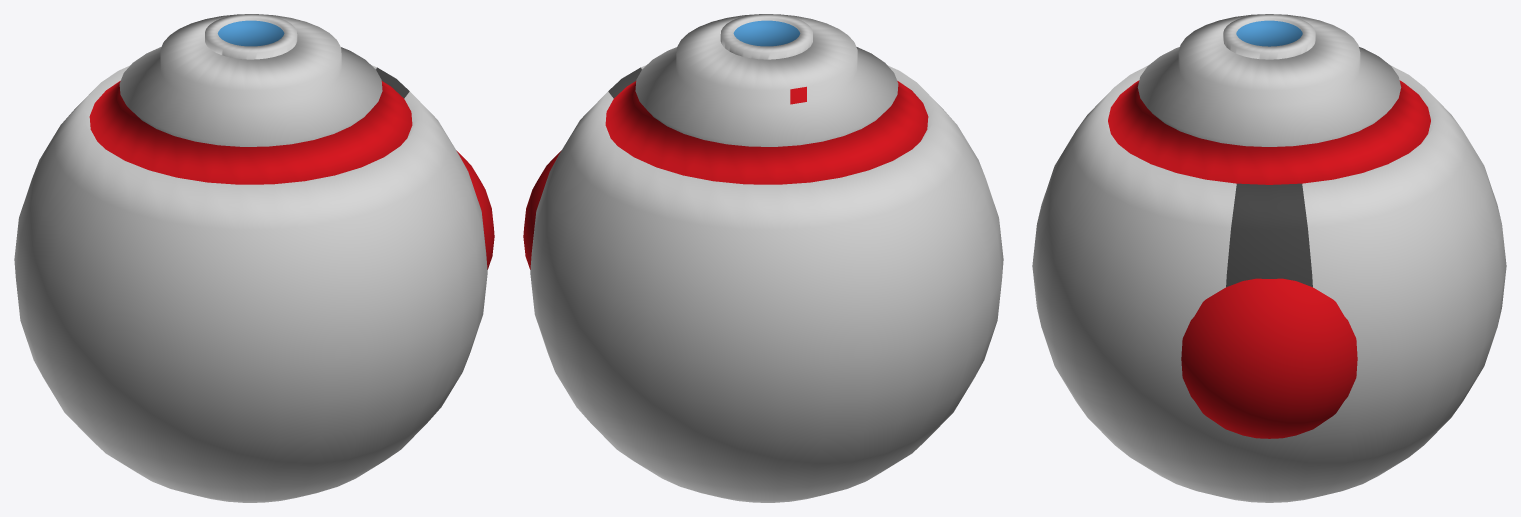
File: dronen.fbx
3 renders of one model, left to right at view 1: azimuth 30°, elevation 25°; view 2: azimuth 150°, elevation 25°; view 3: azimuth 270°, elevation 25°, orthographic.
Visible parts, largest first — view 1: Sphere, Sphere.001; view 2: Sphere, Sphere.001; view 3: Sphere, Sphere.001.
Boxes of the visible parts, x1=… form: Sphere: x1=14, y1=14, x2=487, y2=502; Sphere.001: x1=456, y1=150, x2=494, y2=269; Sphere: x1=530, y1=14, x2=1003, y2=502; Sphere.001: x1=523, y1=150, x2=561, y2=269; Sphere: x1=1032, y1=14, x2=1506, y2=502; Sphere.001: x1=1181, y1=278, x2=1357, y2=438.
Bounding box in the file's own units: 211 × 209 × 200.
